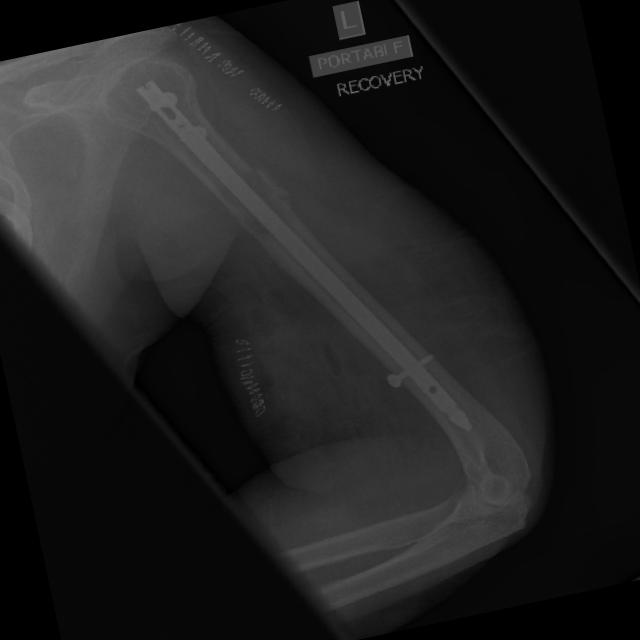humerus fracture: (222, 140, 319, 237)
